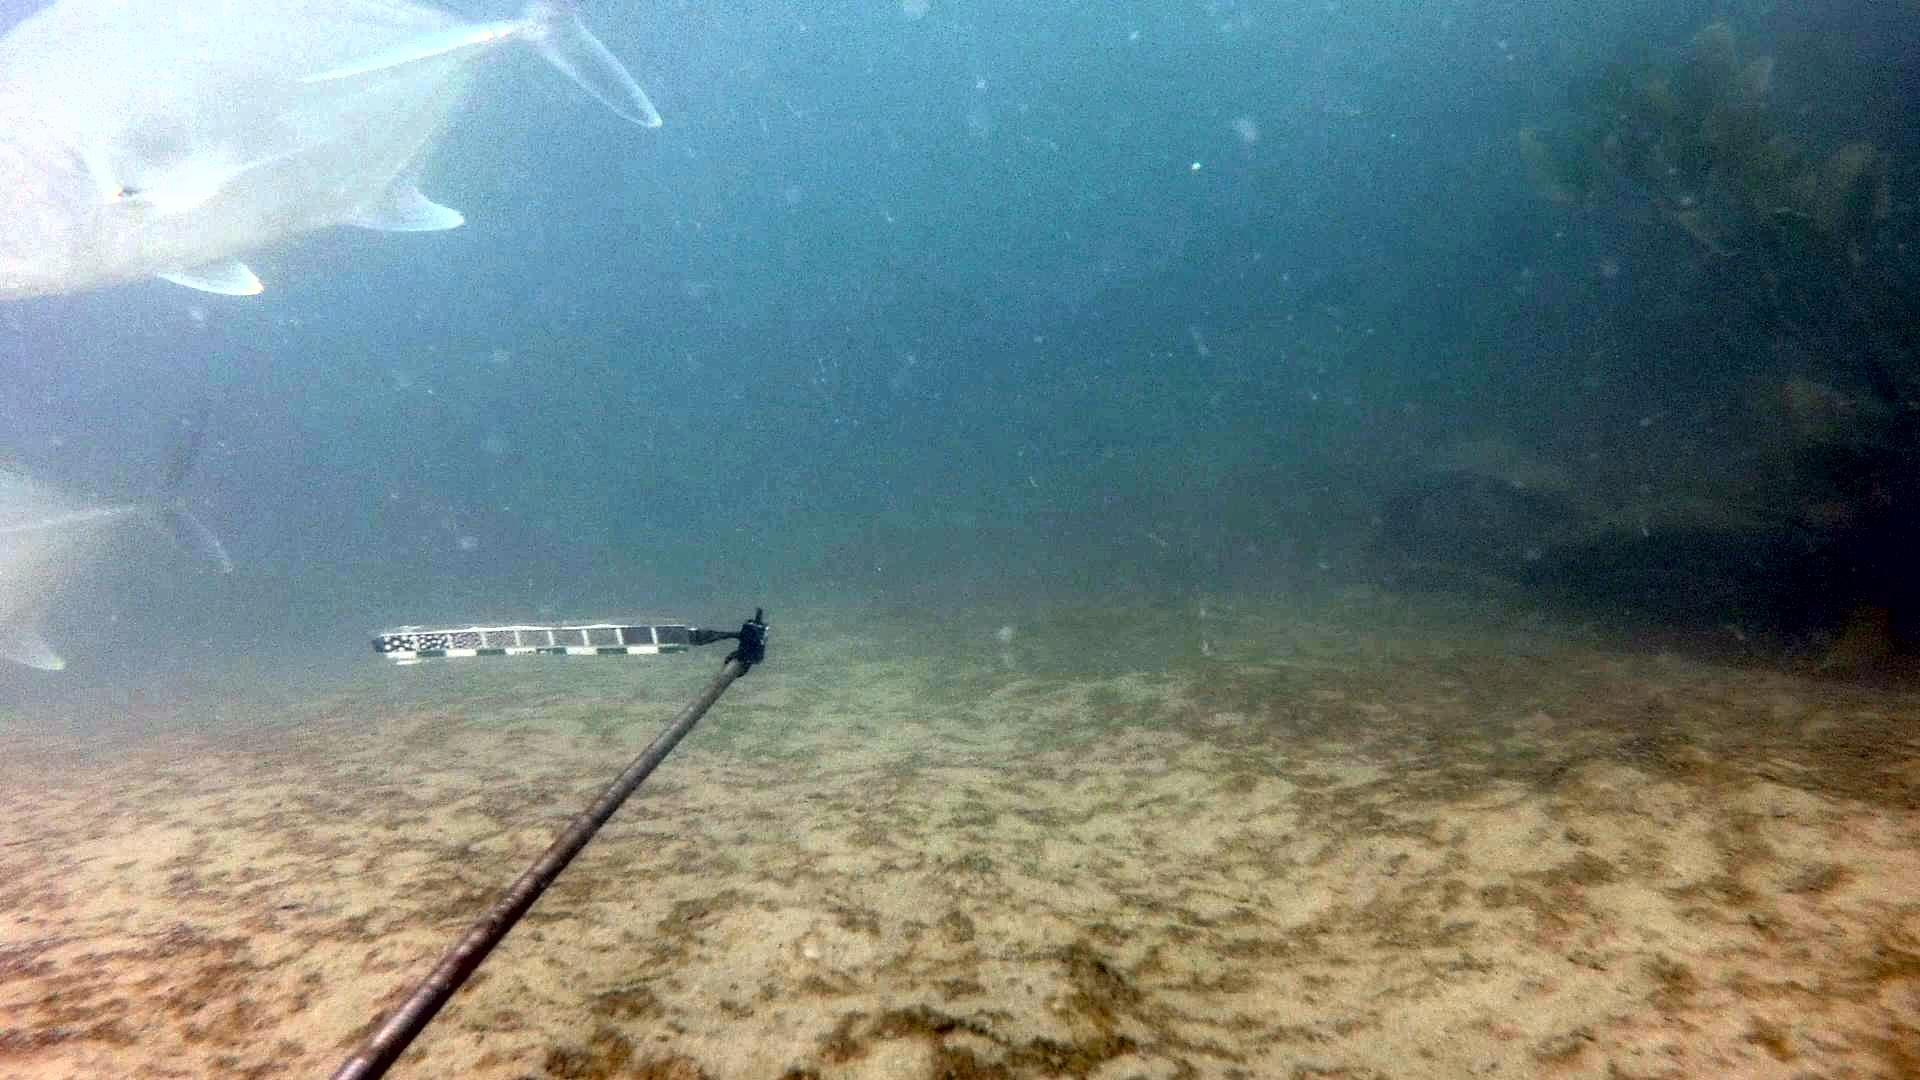caranx: (0, 0, 680, 326), (0, 373, 253, 684)
